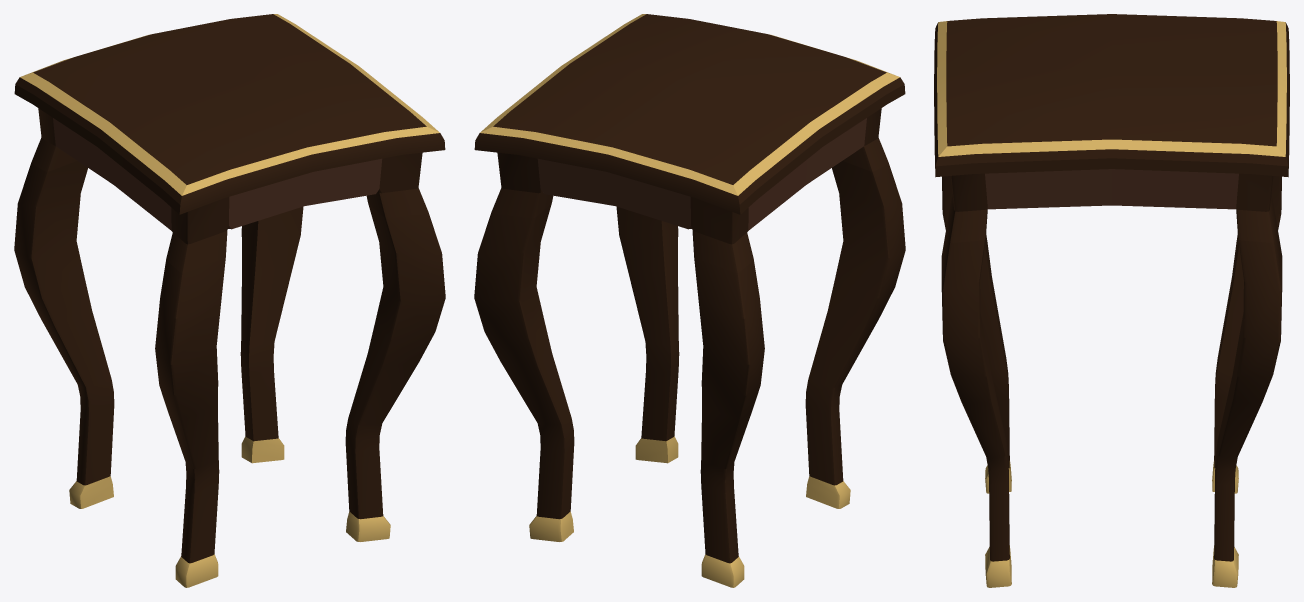
The model's file is BedroomBedsideTable.fbx.
The picture shows the model from 3 angles, left to right: view 1: azimuth 30°, elevation 25°; view 2: azimuth 150°, elevation 25°; view 3: azimuth 270°, elevation 25°; orthographic projection. The views are drawn at different scales.
Visible parts, largest first — view 1: BedsideTableUVd:pCube17; view 2: BedsideTableUVd:pCube17; view 3: BedsideTableUVd:pCube17.
Part boxes in pixels (bbox=[...]): BedsideTableUVd:pCube17: bbox=[14, 14, 445, 587]; BedsideTableUVd:pCube17: bbox=[474, 14, 905, 587]; BedsideTableUVd:pCube17: bbox=[934, 14, 1289, 587].
Bounding box in the file's own units: 72.35 × 109 × 75.4.
